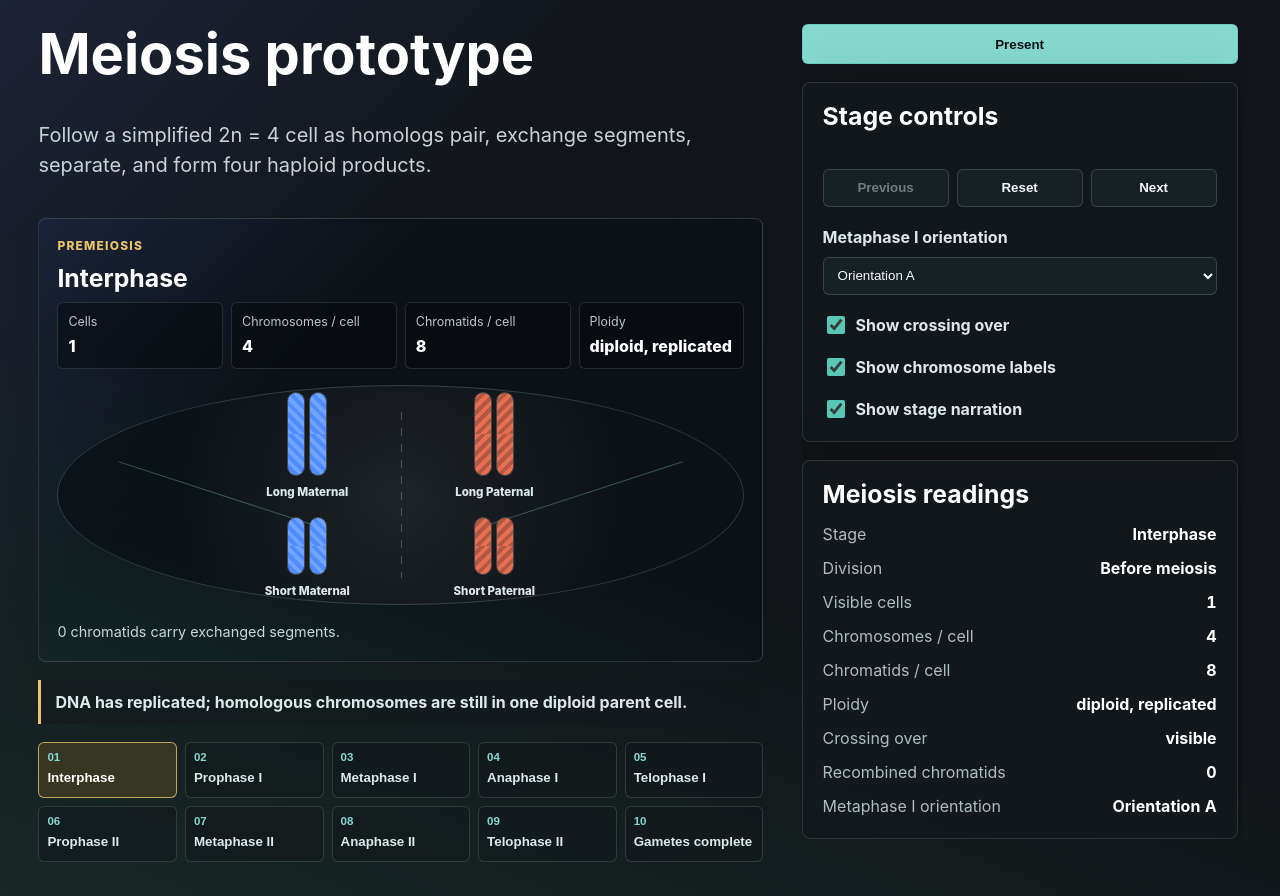
Scenario: MeiosisPrototype › can jump directly from the timeline
This screenshot has width=1280, height=896.
(page scrolled)
Click the button "10 Gametes complete" at (694, 834), box [625,806,763,862]
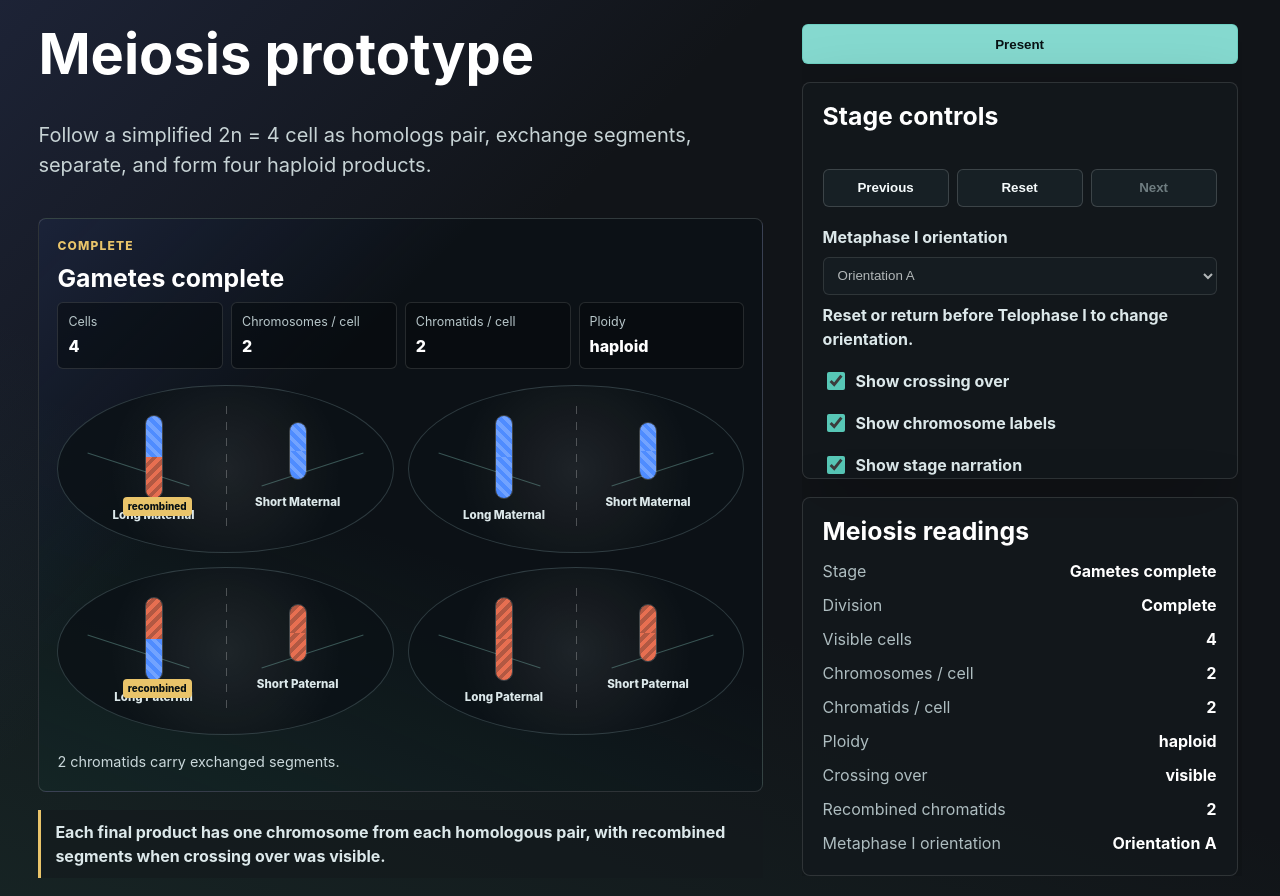
Result: the picture named "gametes complete meiosis stage with 4 visible cells" is shown at [38,218,763,792]
Result: the text "Complete" is shown at [1141,595,1217,615]
